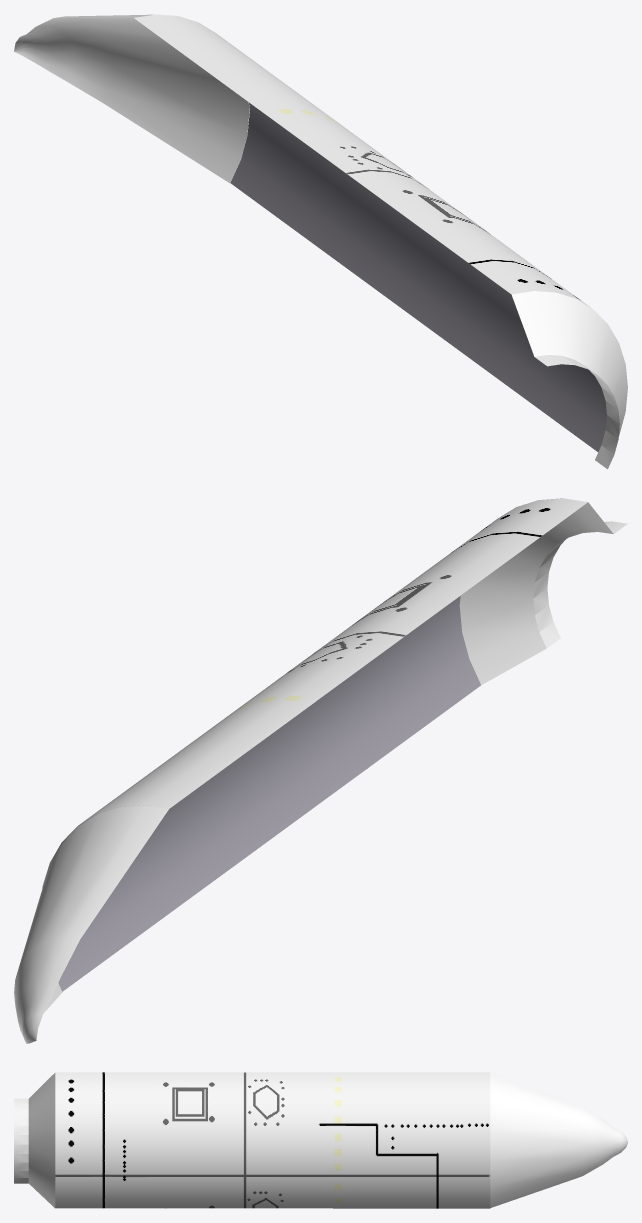
The model's file is fairing612a.obj.
3 views of the same model, one above another, from view 1: azimuth 30°, elevation 25°; view 2: azimuth 150°, elevation 25°; view 3: azimuth 270°, elevation 25° (orthographic). The views are drawn at different scales.
Visible parts, largest first — view 1: group0, group1; view 2: group0, group1; view 3: group1.
Boxes of the visible parts, left/top/right/bottom form: group0: left=14, top=18, right=619, bottom=469; group1: left=56, top=14, right=627, bottom=467; group0: left=42, top=502, right=613, bottom=1012; group1: left=14, top=498, right=627, bottom=1043; group1: left=14, top=1072, right=627, bottom=1208.
Bounding box in the file's own units: 2.51 × 3.89 × 19.87.
Materials: 2 (2 with a texture image).
